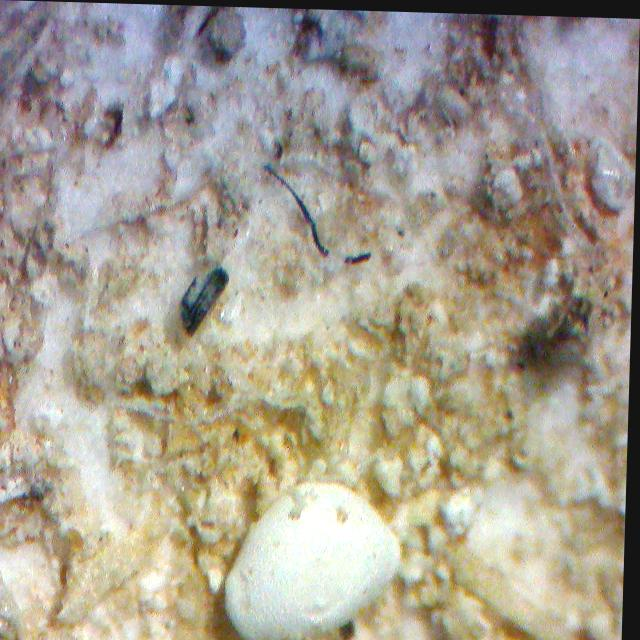microplastic: (259, 153, 339, 259), (345, 248, 374, 263)
